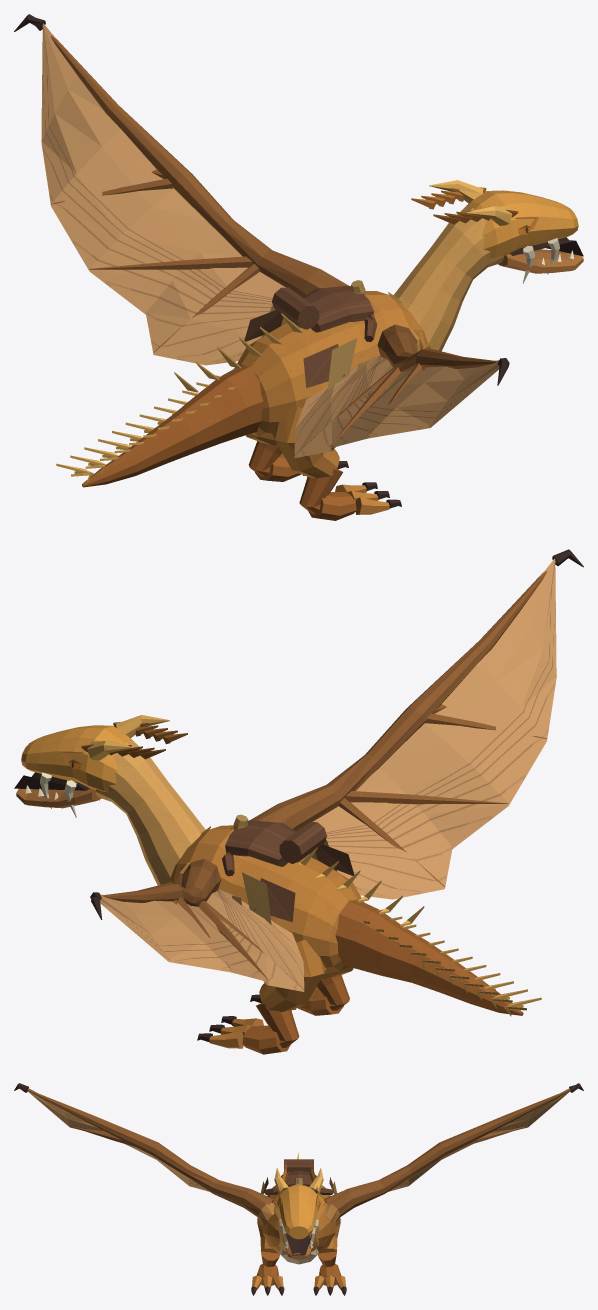
File: wyvern_femea_montaria_v01_blockout.glb
3 views of the same model, one above another, from view 1: azimuth 30°, elevation 25°; view 2: azimuth 150°, elevation 25°; view 3: azimuth 270°, elevation 25° (orthographic). The views are drawn at different scales.
Parts seen in each view (by area): view 1: world; view 2: world; view 3: world.
Boxes of the visible parts, x1,y1,x2,y2 form: world: (14, 14, 583, 520); world: (14, 549, 583, 1054); world: (14, 1083, 583, 1295).
Bounding box in the file's own units: 8.21 × 4.86 × 13.31.
Materials: 1 (1 with a texture image).
